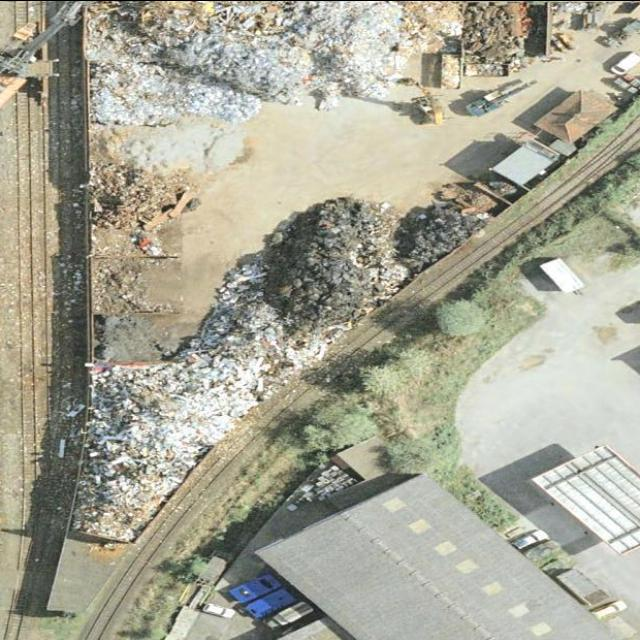dump_site: (83, 185, 491, 505), (87, 0, 405, 121), (70, 365, 202, 542), (88, 124, 183, 256), (399, 0, 464, 52), (94, 257, 150, 311), (441, 53, 463, 88), (464, 63, 511, 75)
